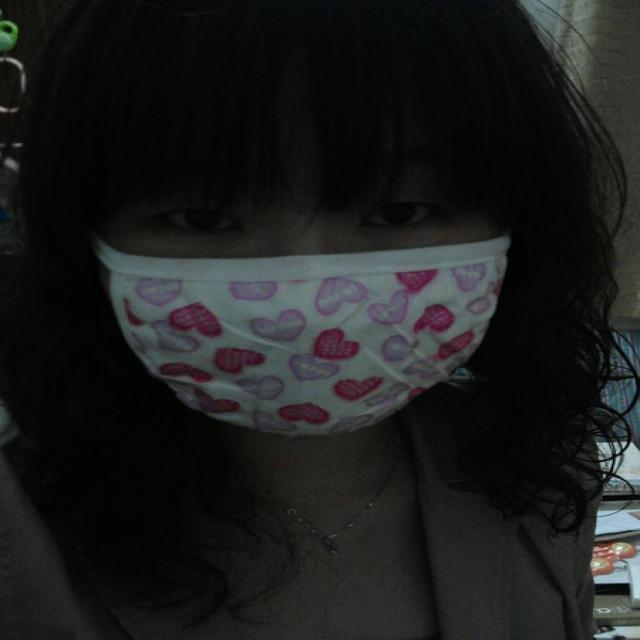mask: (98, 35, 502, 449)
